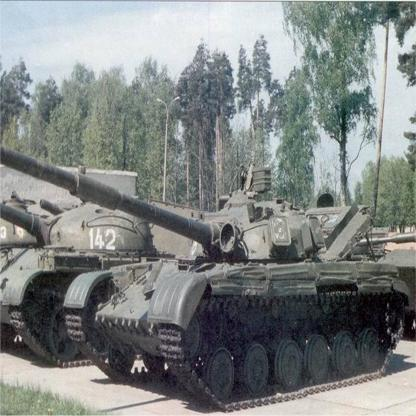Tank: (52, 158, 406, 404), (2, 171, 180, 375)
